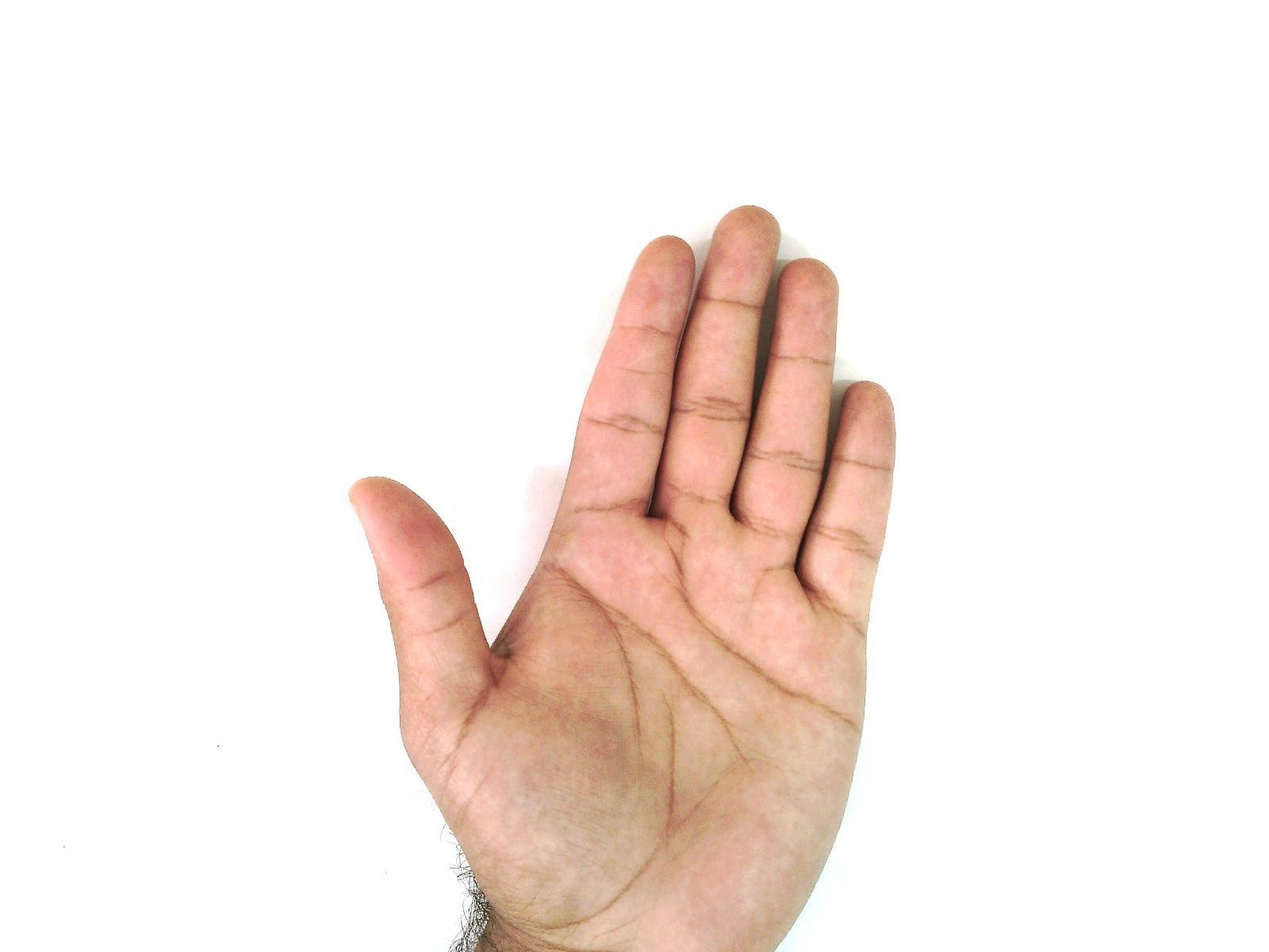open_palm: (347, 204, 900, 951)
